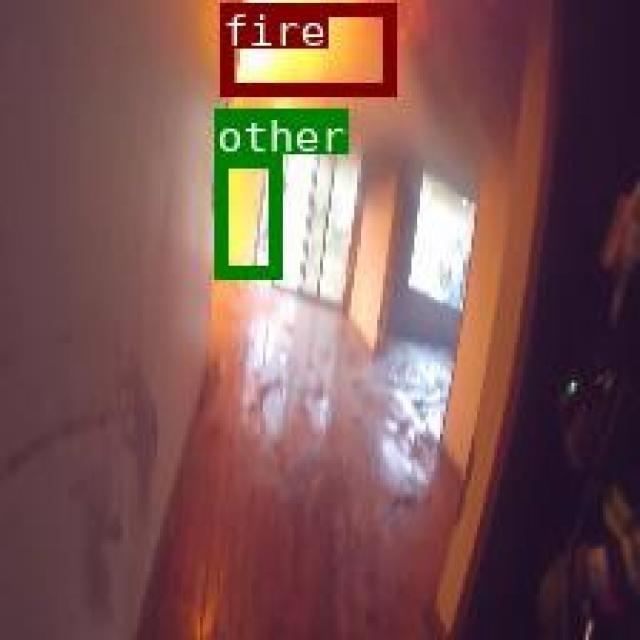fire: (219, 0, 392, 93)
